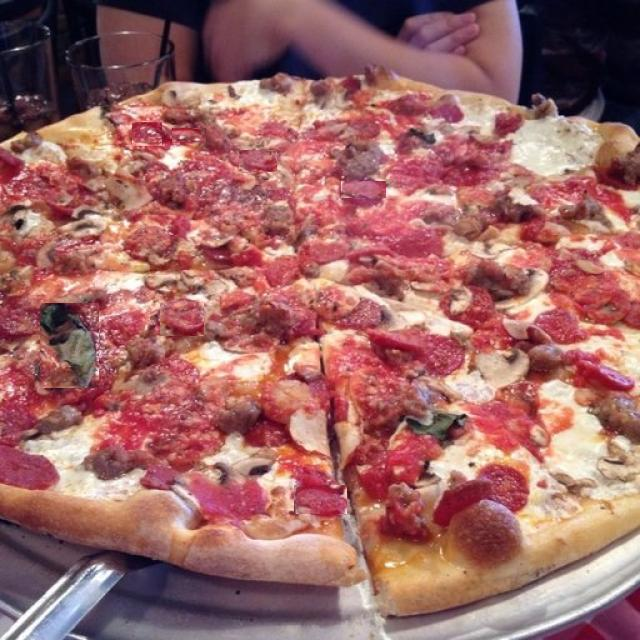basil: (40, 303, 99, 388)
pepperoni: (366, 325, 421, 358), (580, 362, 631, 393), (294, 485, 347, 514), (160, 302, 204, 336), (239, 150, 277, 172), (341, 181, 386, 198), (132, 122, 162, 146), (172, 128, 206, 142)
pizza: (0, 68, 640, 619)
